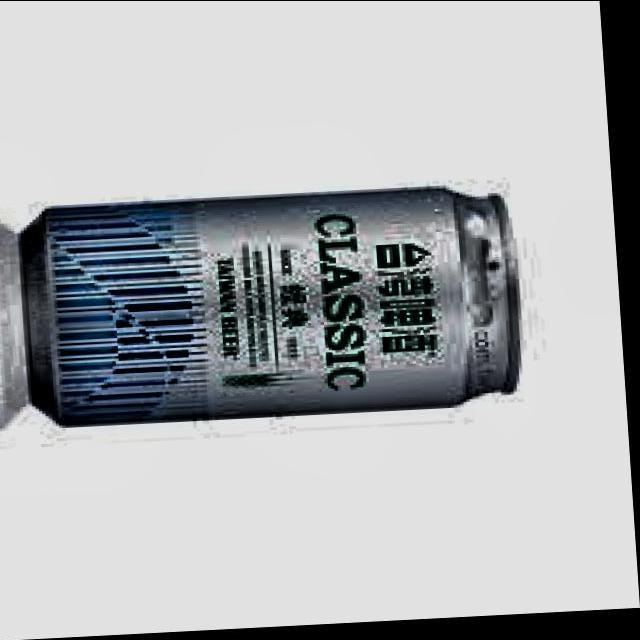Aluminum Can: (14, 178, 544, 440)
